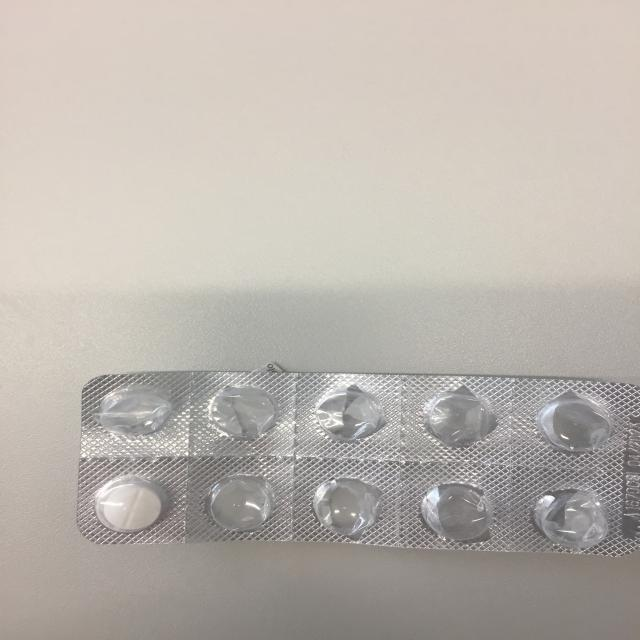Empty: (303, 473, 395, 546), (414, 478, 508, 549), (528, 482, 614, 556), (532, 392, 621, 455), (304, 381, 391, 445), (200, 473, 284, 537), (417, 388, 501, 450), (204, 382, 288, 440), (96, 384, 175, 438)
Pill: (88, 472, 171, 536)
